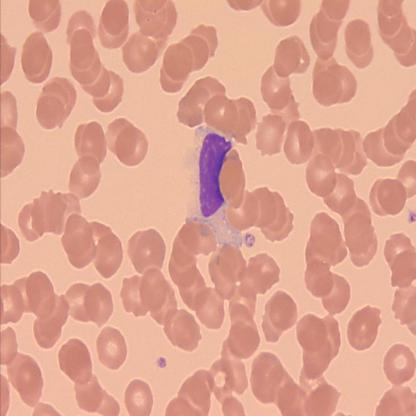Atypical lymphocyte: (192, 124, 245, 245)
